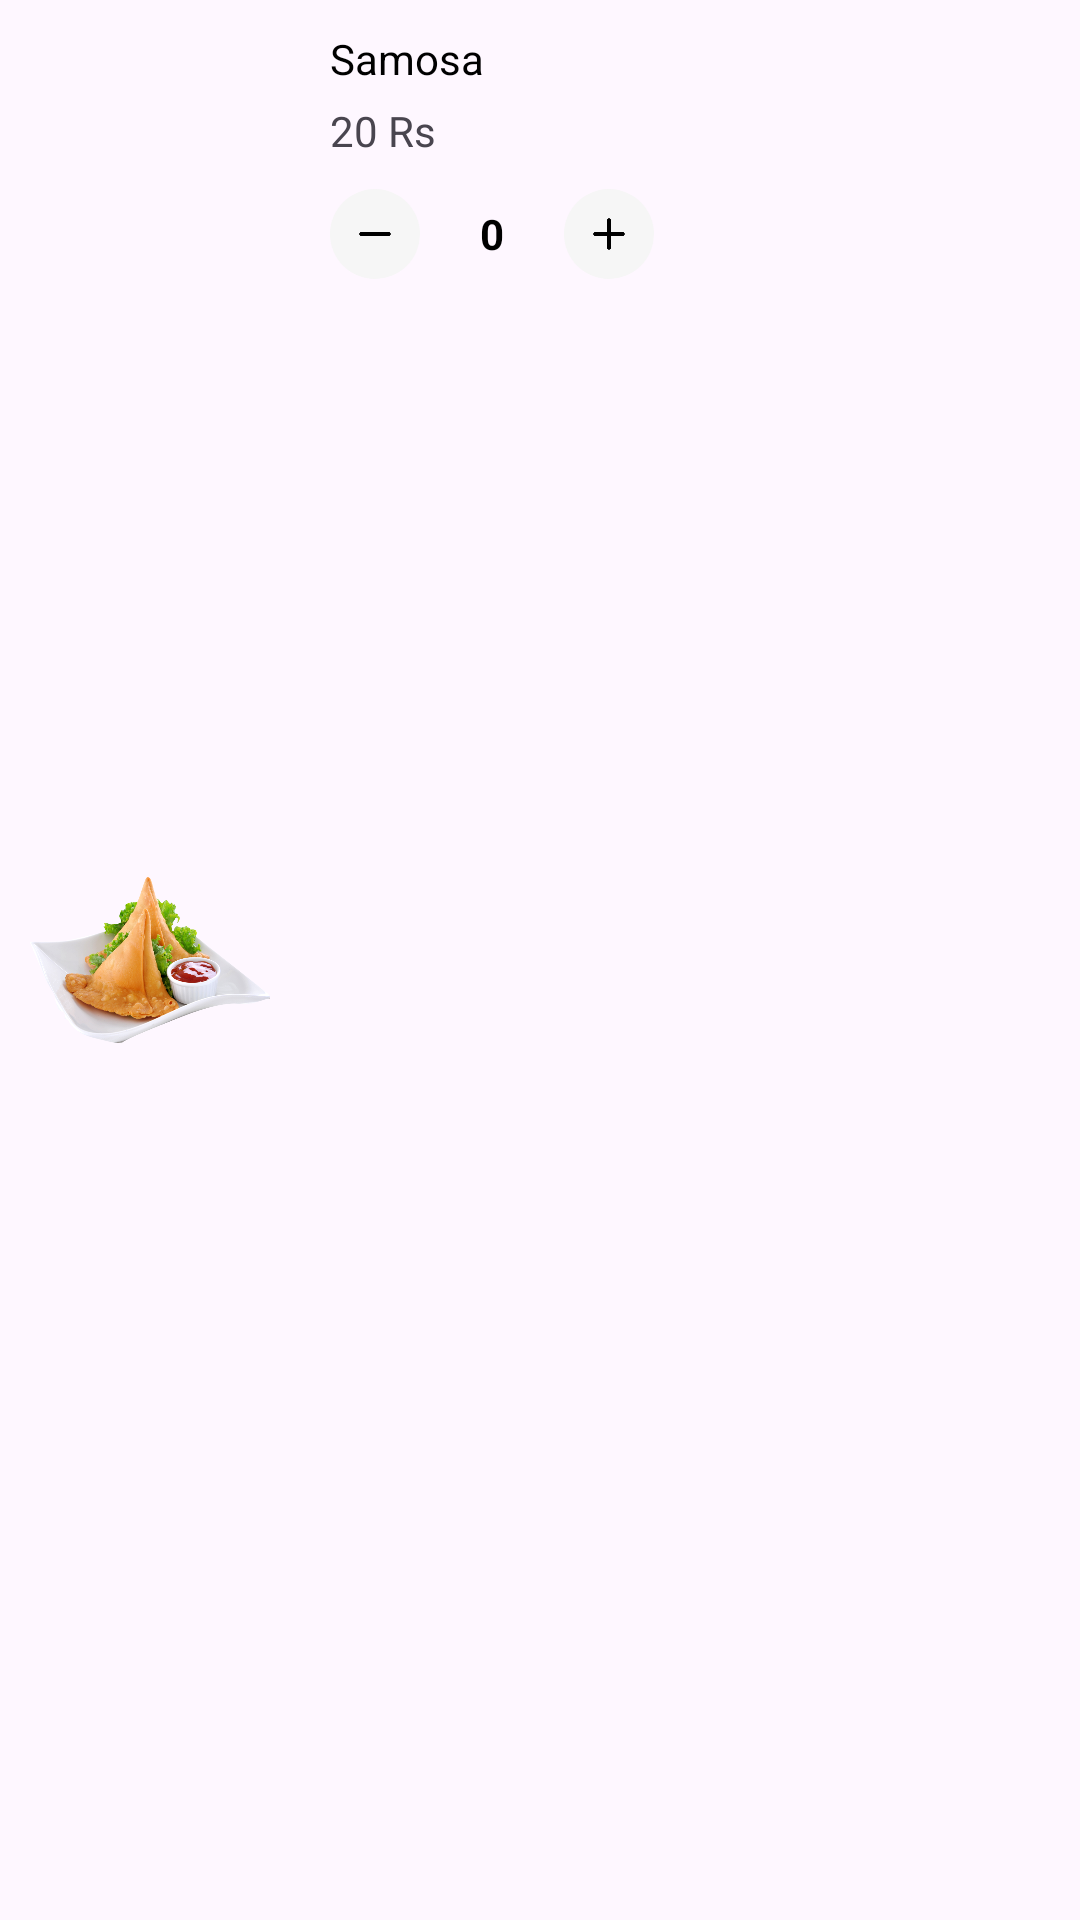

Where icons sit on this 1080px x 1920px app screen, as (x1, y1, x2, y2):
plus: (593, 218, 625, 250)
samosa: (34, 877, 270, 1043)
